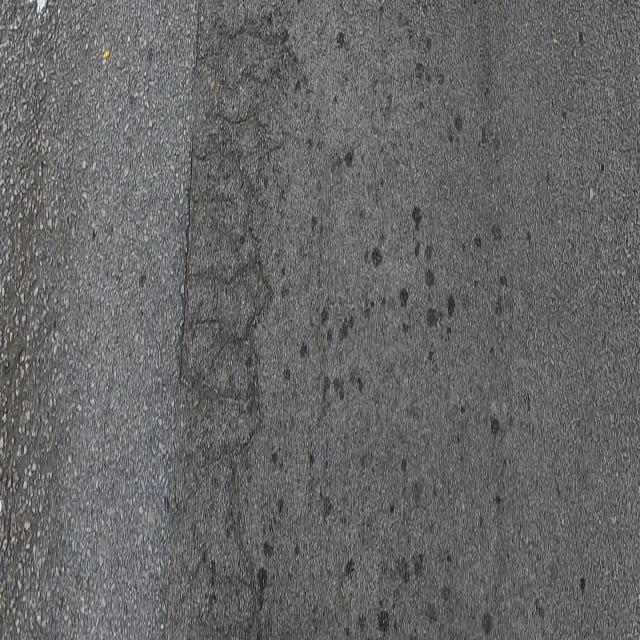Retak-Buaya: (169, 5, 307, 630)
